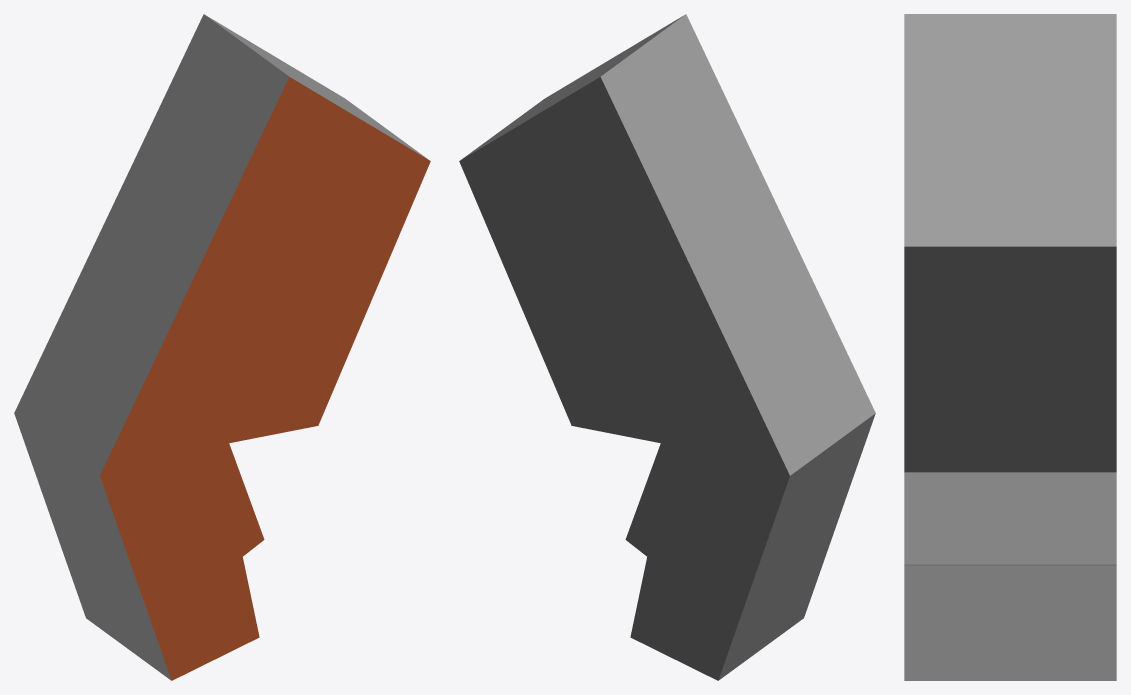
The model's file is construction_6857_assumed_A_Casa_h6m.obj.
3 renders of one model, left to right at view 1: azimuth 30°, elevation 25°; view 2: azimuth 150°, elevation 25°; view 3: azimuth 270°, elevation 25°, orthographic. The views are drawn at different scales.
Parts seen in each view (by area): view 1: construction_6857_assumed_A_Casa; view 2: construction_6857_assumed_A_Casa; view 3: construction_6857_assumed_A_Casa.
Boxes of the visible parts, <box> form: construction_6857_assumed_A_Casa: <box>14,14,430,680</box>; construction_6857_assumed_A_Casa: <box>459,14,875,680</box>; construction_6857_assumed_A_Casa: <box>904,14,1116,680</box>.
Size of the model in its own units: 13.37 by 22.22 by 6.
